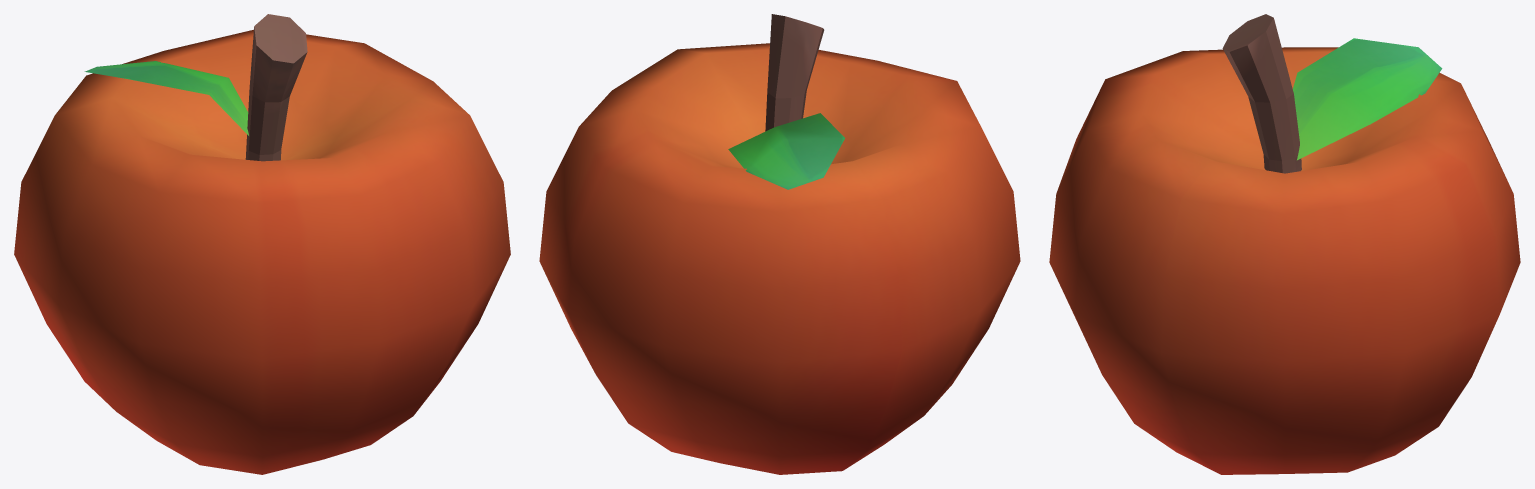
Rendered from Mesh_Apple.fbx.
3 views of the same model, side by side, from view 1: azimuth 30°, elevation 25°; view 2: azimuth 150°, elevation 25°; view 3: azimuth 270°, elevation 25° (orthographic).
Visible parts, largest first — view 1: Apple; view 2: Apple; view 3: Apple.
Part boxes in pixels (box(x1,y1,x2,y2)): Apple: box(14, 14, 510, 474); Apple: box(539, 14, 1020, 474); Apple: box(1049, 14, 1520, 474).
Bounding box in the file's own units: 182 × 183 × 182.
